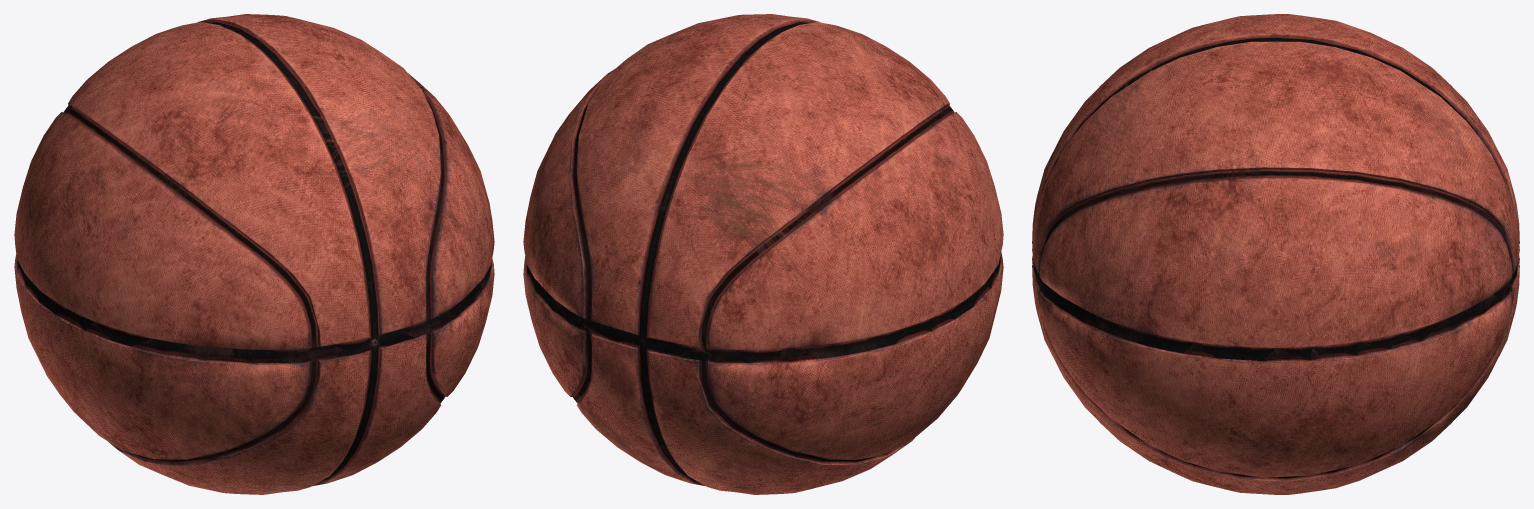
The picture shows the model from 3 angles, left to right: view 1: azimuth 30°, elevation 25°; view 2: azimuth 150°, elevation 25°; view 3: azimuth 270°, elevation 25°; orthographic projection.
Visible parts, largest first — view 1: 3; view 2: 3; view 3: 3.
Part boxes in pixels (left/top/right/bottom): 3: left=14, top=14, right=494, bottom=494; 3: left=523, top=14, right=1003, bottom=494; 3: left=1032, top=14, right=1519, bottom=494.
Size of the model in its own units: 70.07 by 70.07 by 71.37.
1 material, 1 textured.
